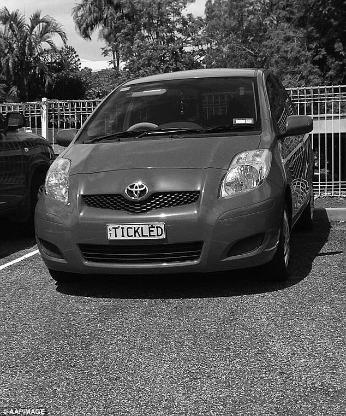license plate: (102, 220, 170, 244)
